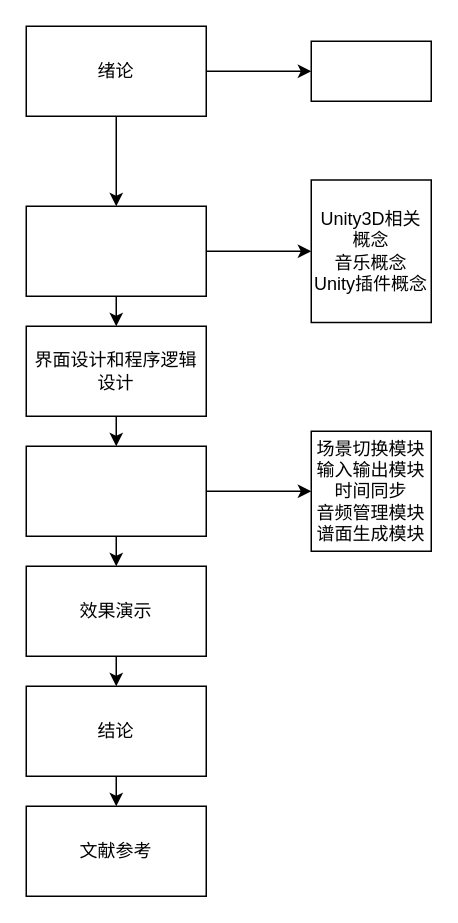
The diagram is 458 pixels wide and 923 high, and some of its shapes have lost their labels. Each missing label, with the box of its shape:
功能模块实现: (25, 445, 206, 536)
基础概念: (25, 205, 206, 296)
研究背景 研究现状: (310, 40, 431, 101)
